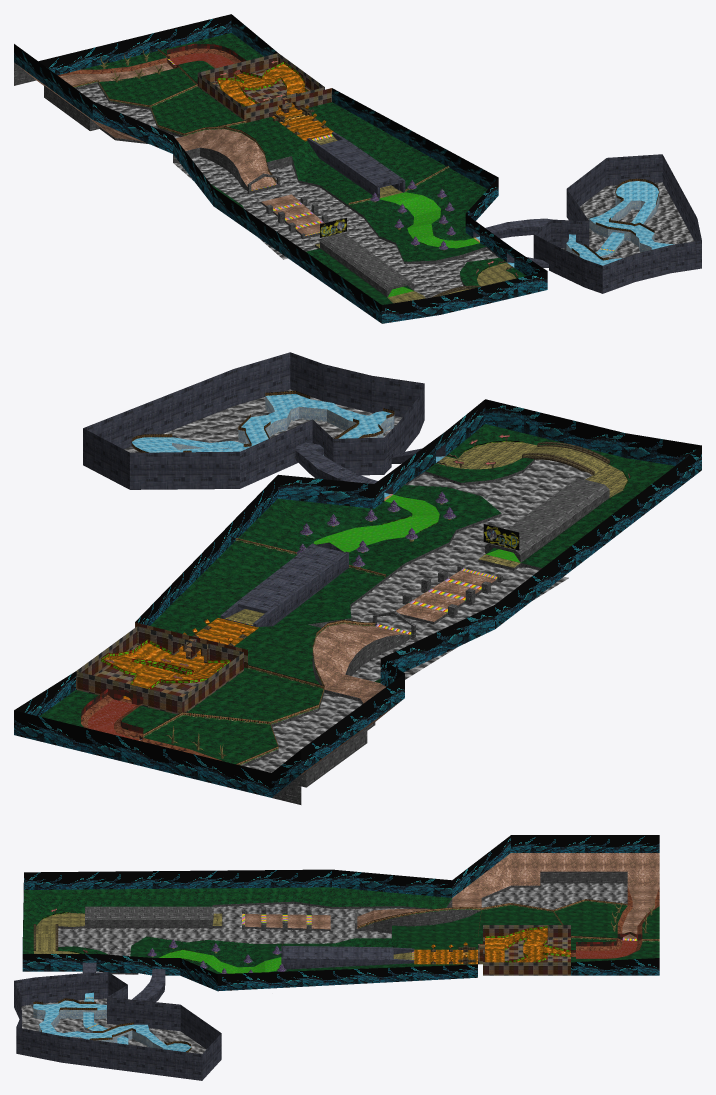
3 views of the same model, one above another, from view 1: azimuth 30°, elevation 25°; view 2: azimuth 150°, elevation 25°; view 3: azimuth 270°, elevation 25° (orthographic). The views are drawn at different scales.
Parts seen in each view (by area): view 1: course-SKP--pastolento, course-SKP--semipared, course-SKP--murometalnoth, course-SKP--Zagua, course-SKP--Muroboth, course-SKP--pisotierra.001, course-SKP--wMuroColorboth, course-SKP--whielo, course-SKP--semi4.001, course-SKP--pastoP, course-SKP--pisomadera, course-SKP--semibarda (+7 smaller); view 2: course-SKP--pastolento, course-SKP--semipared, course-SKP--murometalnoth, course-SKP--Zagua, course-SKP--Muroboth, course-SKP--wMuroColorboth, course-SKP--pisotierra.001, course-SKP--pisomadera, course-SKP--whielo, course-SKP--semi4.001, course-SKP--pastoP, course-SKP--semibarda (+10 smaller); view 3: course-SKP--semipared, course-SKP--pastolento, course-SKP--murometalnoth, course-SKP--Zagua, course-SKP--pisotierra.001, course-SKP--Muroboth, course-SKP--wMuroColorboth, course-SKP--semi4.001, course-SKP--whielo, course-SKP--pisomadera, course-SKP--semibarda, course-SKP--pastoP (+7 smaller).
Boxes of the visible parts, box(x1,y1,x2,y2) form: course-SKP--pastolento: box(81, 33, 525, 304); course-SKP--semipared: box(14, 14, 547, 323); course-SKP--murometalnoth: box(307, 132, 701, 293); course-SKP--Zagua: box(77, 84, 694, 298); course-SKP--Muroboth: box(14, 62, 499, 297); course-SKP--pisotierra.001: box(15, 62, 324, 234); course-SKP--wMuroColorboth: box(197, 53, 331, 122); course-SKP--whielo: box(476, 181, 674, 267); course-SKP--semi4.001: box(218, 64, 333, 141); course-SKP--pastoP: box(379, 192, 479, 297); course-SKP--pisomadera: box(99, 49, 516, 303); course-SKP--semibarda: box(72, 48, 449, 205); course-SKP--pastolento: box(39, 424, 674, 764); course-SKP--semipared: box(14, 399, 701, 797); course-SKP--murometalnoth: box(83, 352, 445, 626); course-SKP--Zagua: box(124, 389, 592, 772); course-SKP--Muroboth: box(241, 459, 609, 804); course-SKP--wMuroColorboth: box(76, 622, 247, 714); course-SKP--pisotierra.001: box(301, 570, 496, 775); course-SKP--pisomadera: box(105, 441, 627, 758); course-SKP--whielo: box(132, 394, 444, 498); course-SKP--semi4.001: box(104, 618, 258, 700); course-SKP--pastoP: box(313, 495, 520, 562); course-SKP--semibarda: box(143, 538, 385, 772); course-SKP--semipared: box(22, 835, 659, 991); course-SKP--pastolento: box(23, 887, 659, 973); course-SKP--murometalnoth: box(14, 946, 414, 1080); course-SKP--Zagua: box(21, 883, 627, 1054); course-SKP--pisotierra.001: box(245, 853, 659, 938); course-SKP--Muroboth: box(58, 871, 627, 974); course-SKP--wMuroColorboth: box(478, 925, 570, 975); course-SKP--semi4.001: box(414, 928, 570, 964); course-SKP--whielo: box(33, 992, 190, 1051); course-SKP--pisomadera: box(33, 901, 654, 963); course-SKP--semibarda: box(282, 899, 659, 945); course-SKP--pastoP: box(159, 950, 281, 973).
Bounding box in the file's own units: 90756 × 13028 × 140379.
Materials: 26 (25 with a texture image).
